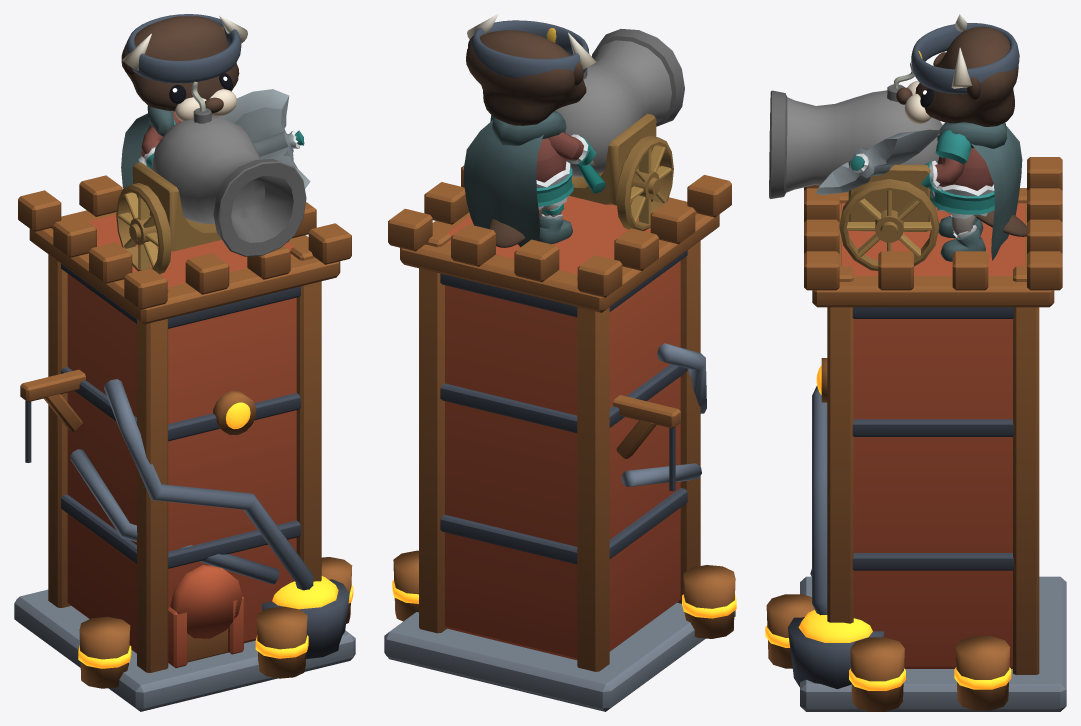
File: tower_beaver_mortar.glb
3 views of the same model, side by side, from view 1: azimuth 30°, elevation 25°; view 2: azimuth 150°, elevation 25°; view 3: azimuth 270°, elevation 25° (orthographic). The views are drawn at different scales.
Visible parts, largest first — view 1: CustomTowerBase_beaver_mortar, Cannon, BvHead, Cannon_Wheels, 2H_Axe, NativeHat_IronBand, Barbarian_Cape, Barbarian_Body; view 2: CustomTowerBase_beaver_mortar, Cannon, Barbarian_Cape, BvHead, Cannon_Wheels, Barbarian_Body, NativeHat_IronBand, Barbarian_ArmRight, Barbarian_LegRight, BeaverPaddleTail; view 3: CustomTowerBase_beaver_mortar, Cannon, BvHead, Cannon_Wheels, Barbarian_Body, 2H_Axe, NativeHat_IronBand, Barbarian_Cape, Barbarian_ArmLeft, Barbarian_LegLeft, BeaverPaddleTail, WhiskerPad_1.
Boxes of the visible parts, <box> form: CustomTowerBase_beaver_mortar: <box>14,175,355,711</box>; Cannon: <box>132,81,306,256</box>; BvHead: <box>121,16,239,111</box>; Cannon_Wheels: <box>116,183,288,274</box>; 2H_Axe: <box>218,89,310,188</box>; NativeHat_IronBand: <box>126,14,241,83</box>; Barbarian_Cape: <box>121,113,150,188</box>; Barbarian_Body: <box>138,105,181,165</box>; CustomTowerBase_beaver_mortar: <box>384,165,736,711</box>; Cannon: <box>555,29,684,205</box>; Barbarian_Cape: <box>464,120,543,247</box>; BvHead: <box>466,30,586,125</box>; Cannon_Wheels: <box>616,135,673,231</box>; Barbarian_Body: <box>492,110,573,209</box>; NativeHat_IronBand: <box>471,20,589,78</box>; Barbarian_ArmRight: <box>547,132,596,166</box>; Barbarian_LegRight: <box>539,203,572,244</box>; BeaverPaddleTail: <box>489,208,542,247</box>; CustomTowerBase_beaver_mortar: <box>765,157,1066,711</box>; Cannon: <box>769,62,942,231</box>; BvHead: <box>915,26,1018,126</box>; Cannon_Wheels: <box>839,179,939,270</box>; Barbarian_Body: <box>930,122,1007,218</box>; 2H_Axe: <box>816,129,940,194</box>; NativeHat_IronBand: <box>911,23,1019,93</box>; Barbarian_Cape: <box>971,126,1022,260</box>; Barbarian_ArmLeft: <box>920,130,971,191</box>; Barbarian_LegLeft: <box>940,215,985,261</box>; BeaverPaddleTail: <box>976,210,1026,236</box>; WhiskerPad_1: <box>904,94,931,123</box>.
Bounding box in the file's own units: 1.08 × 2.26 × 0.972.
Materials: 12 (3 with a texture image).
